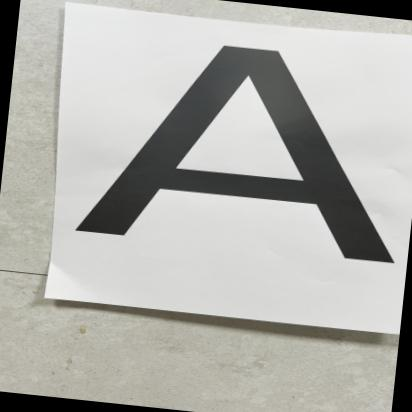seat: (45, 11, 412, 347)
